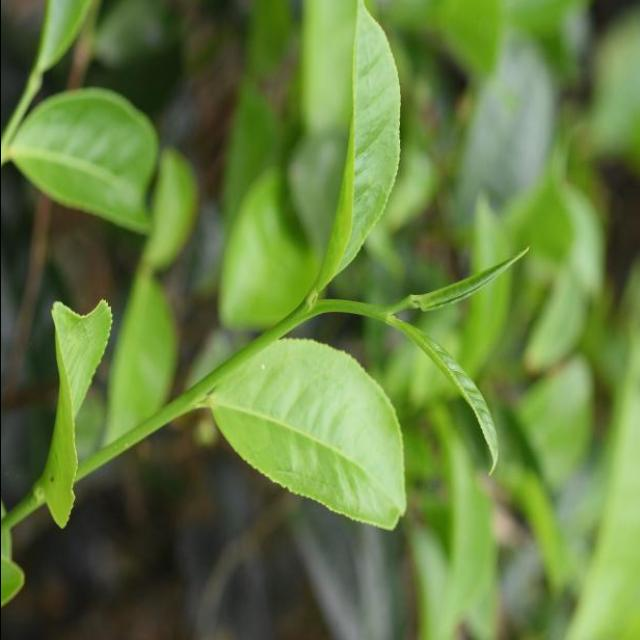Stem: (302, 301, 318, 315)
